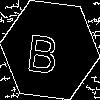B: (25, 25, 61, 75)
